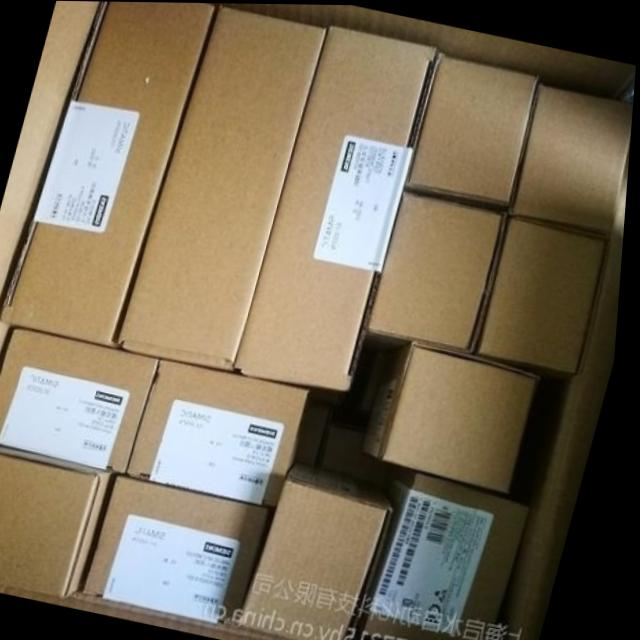box: (123, 4, 326, 371), (240, 25, 439, 391), (3, 1, 214, 346), (91, 474, 283, 623), (372, 471, 537, 640), (247, 461, 400, 640), (134, 359, 315, 508), (369, 340, 546, 492), (0, 329, 164, 473), (372, 190, 505, 347), (484, 218, 612, 372), (409, 52, 539, 202), (0, 445, 120, 598), (511, 83, 634, 231)
